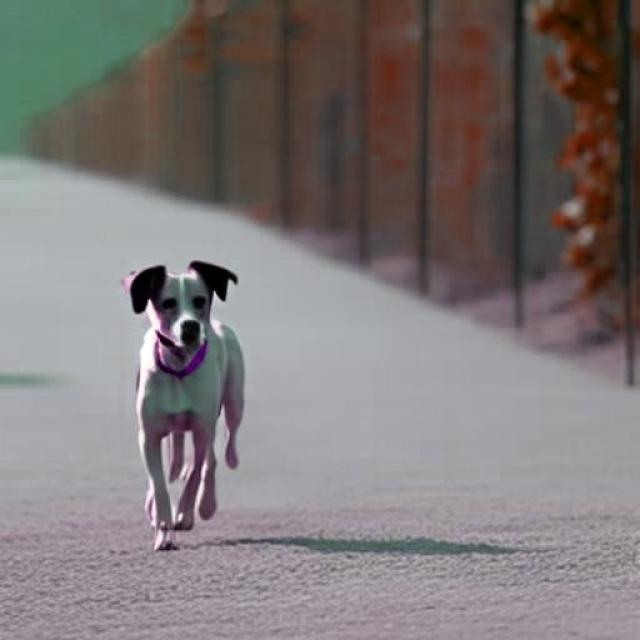Dog: (122, 260, 246, 551)
